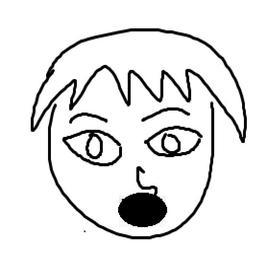eye: (59, 127, 124, 169), (143, 125, 202, 162)
eyebrow: (136, 104, 195, 120), (66, 110, 117, 127)
nose: (133, 160, 166, 195)
open_mouth: (115, 190, 174, 228)
